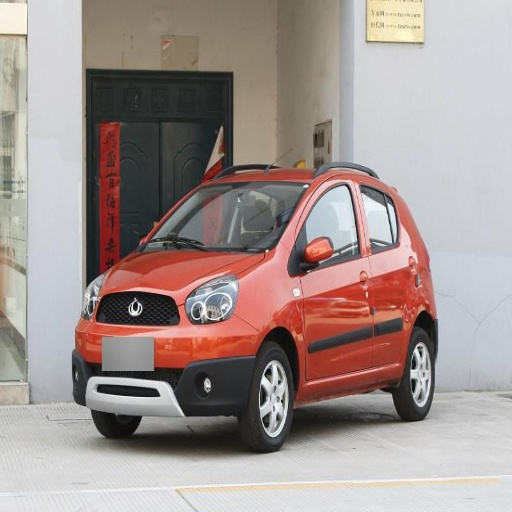front_bumper: (74, 287, 260, 414)
front_glass: (141, 181, 305, 250)
front_left_door: (294, 174, 374, 381)
